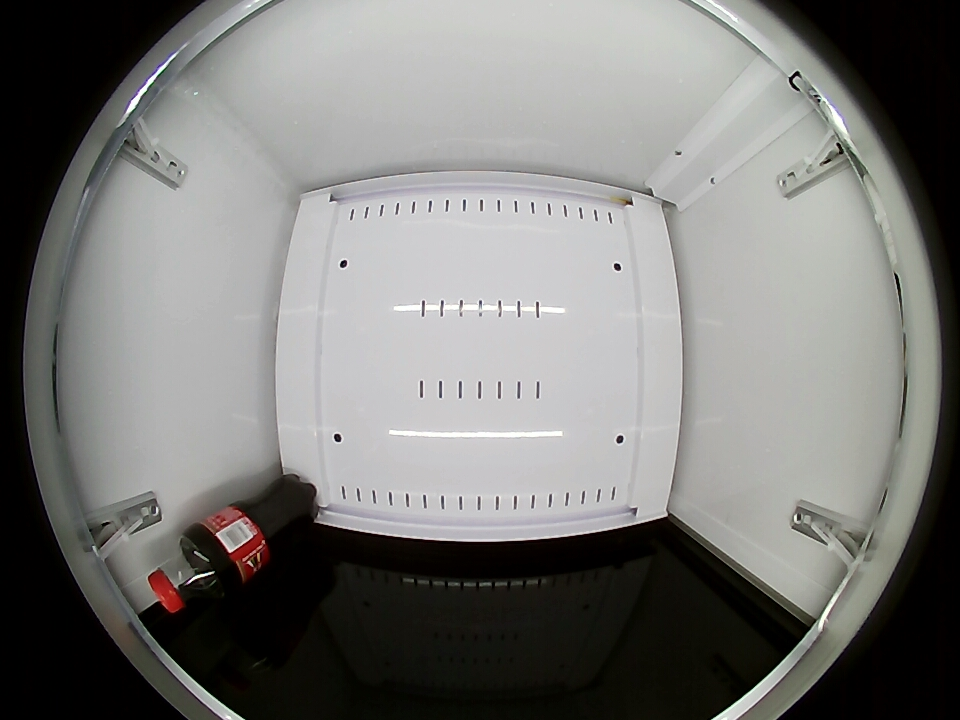kele-b: (148, 536, 224, 612)
